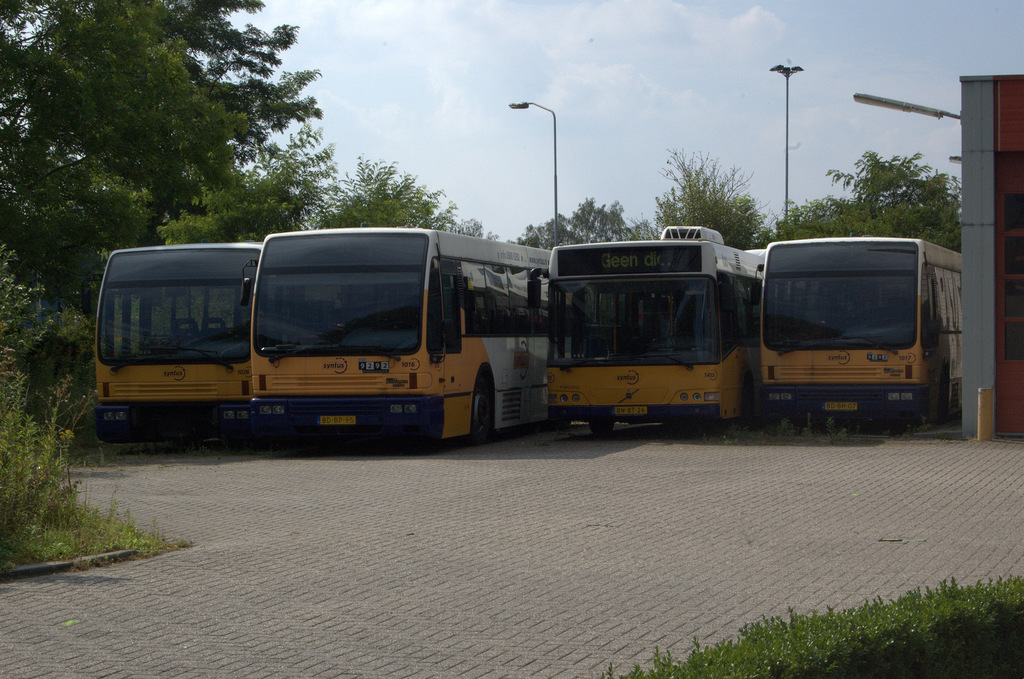Bus: (90, 226, 968, 443)
